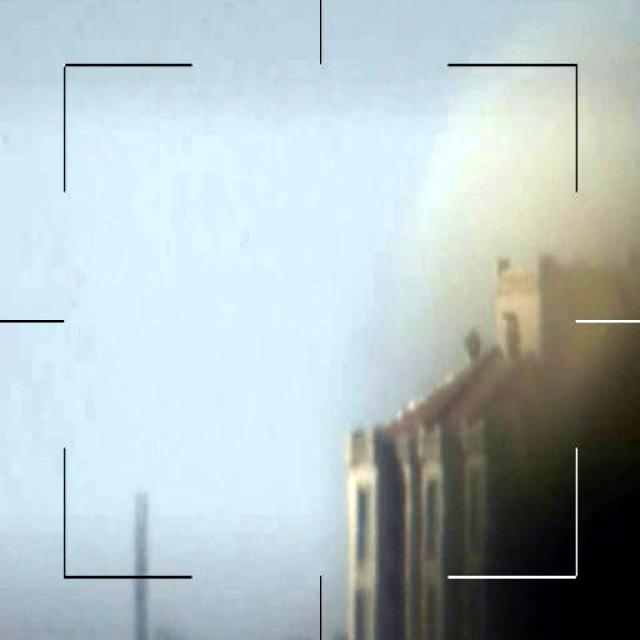bird: (444, 271, 500, 338)
